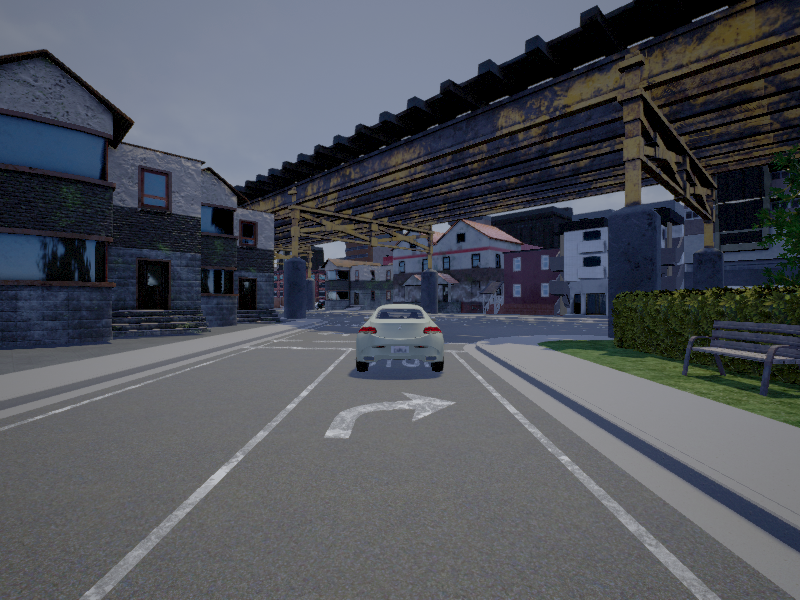Benign: (357, 305, 445, 372)
